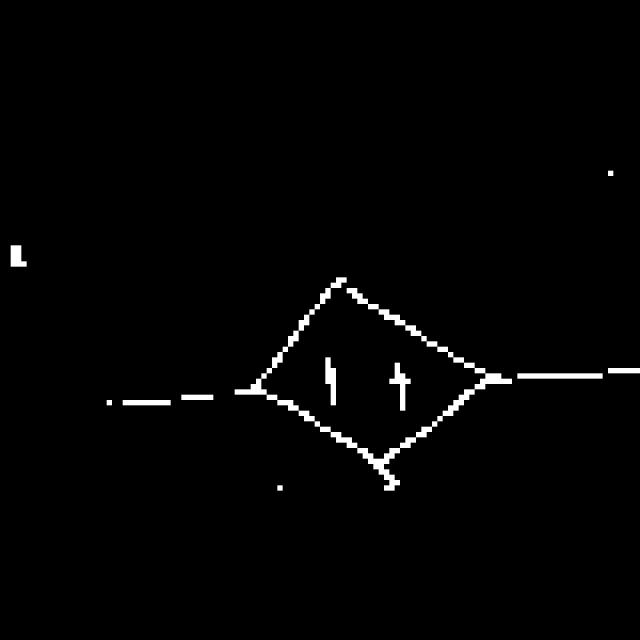dependant_voltage: (248, 270, 497, 463)
